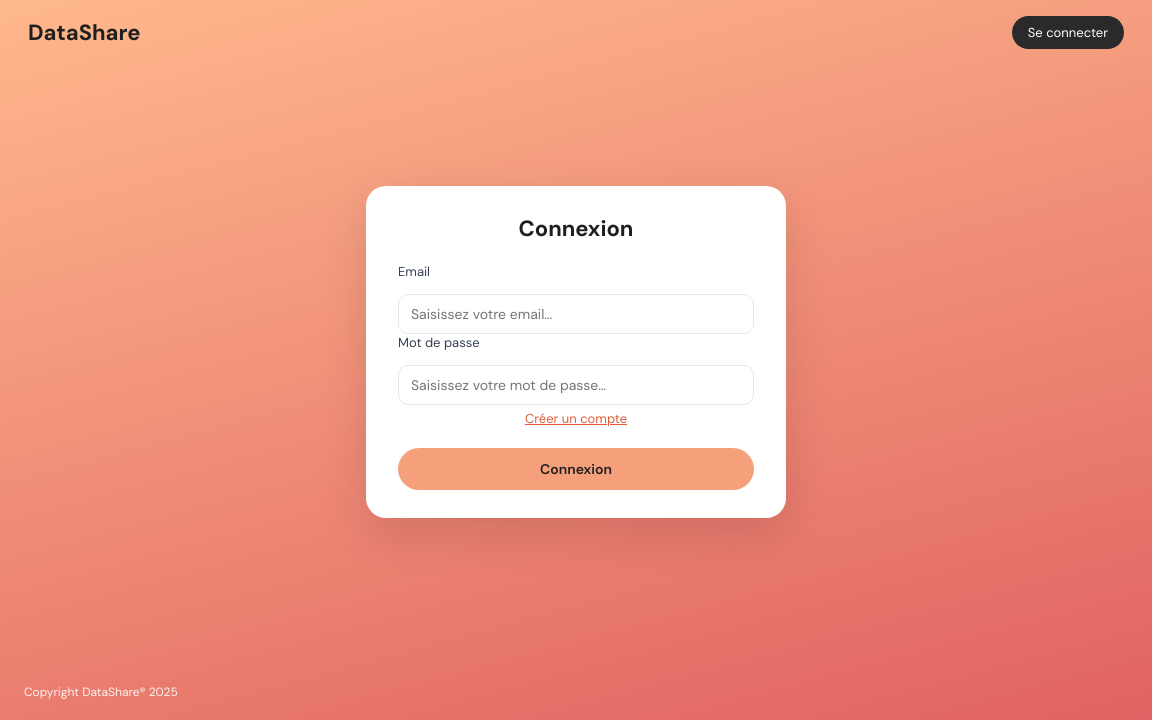
Test: US03 / US04 — Auth réelle › refuse des identifiants incorrects
Type "nobody_e2e@datashare.test" into the field named "email".
click(576, 314); type("nobody_e2e@datashare.test")  # box [398,294,754,334]
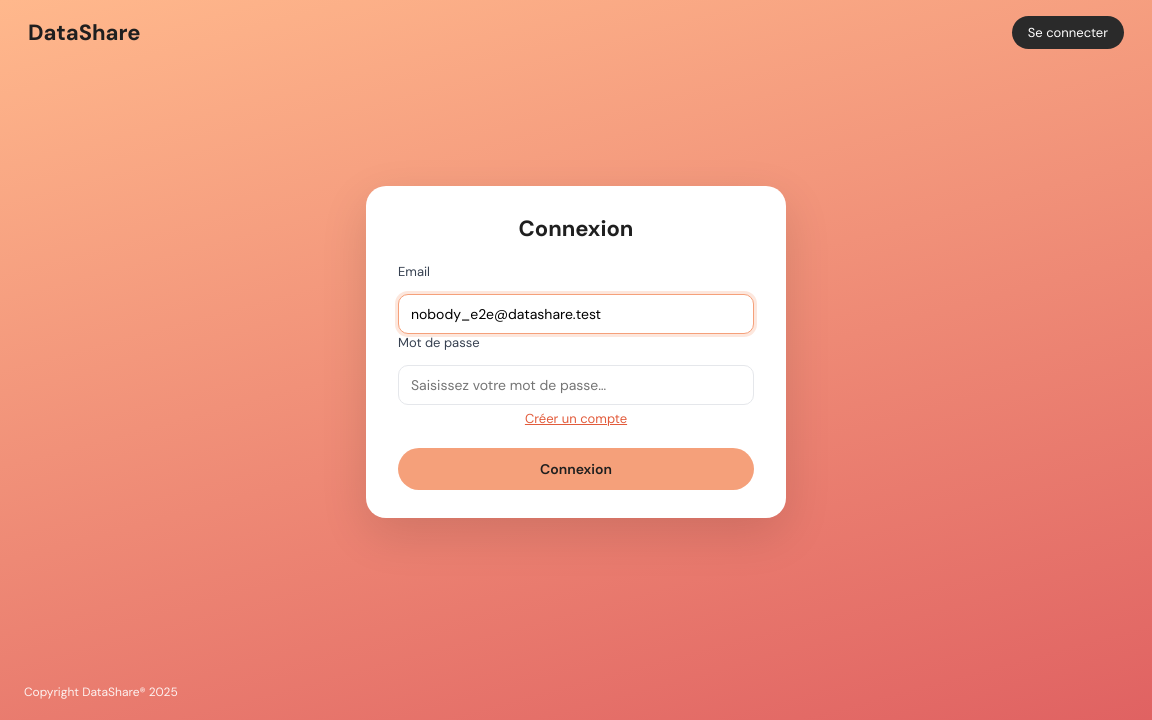
Type "wrongpass1" into the password field named "password".
click(576, 385); type("wrongpass1")  # box [398,365,754,405]
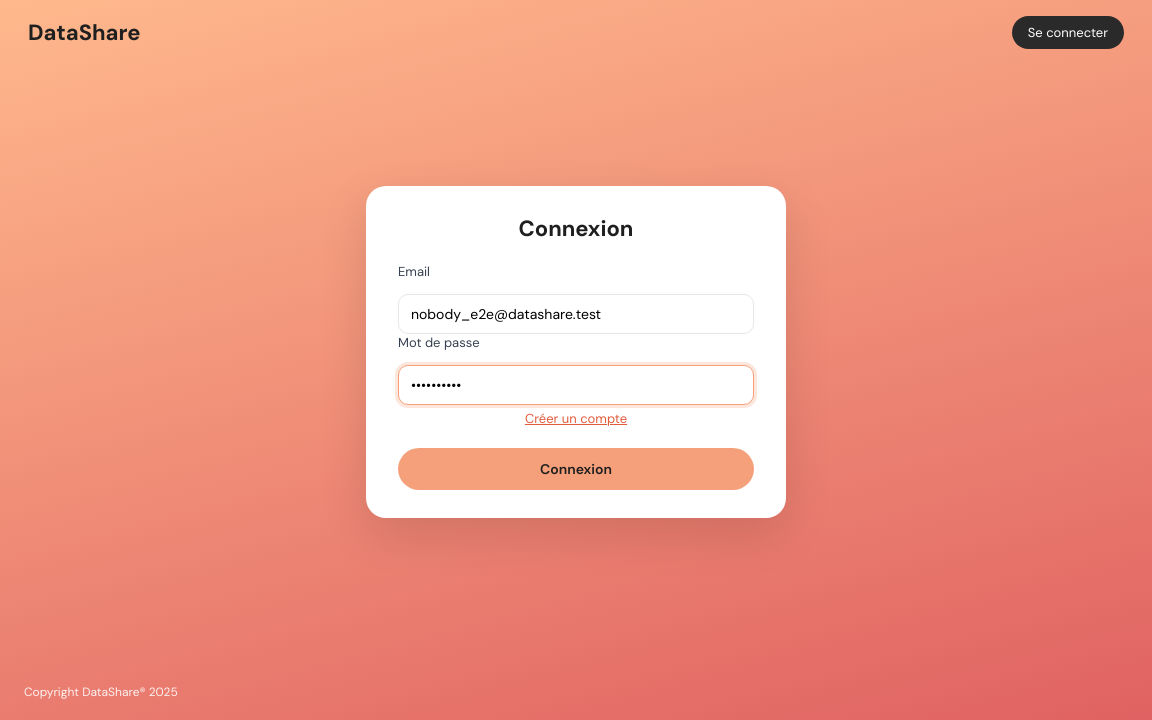
Click the button "Connexion".
click(576, 469)  # box [398,448,754,490]
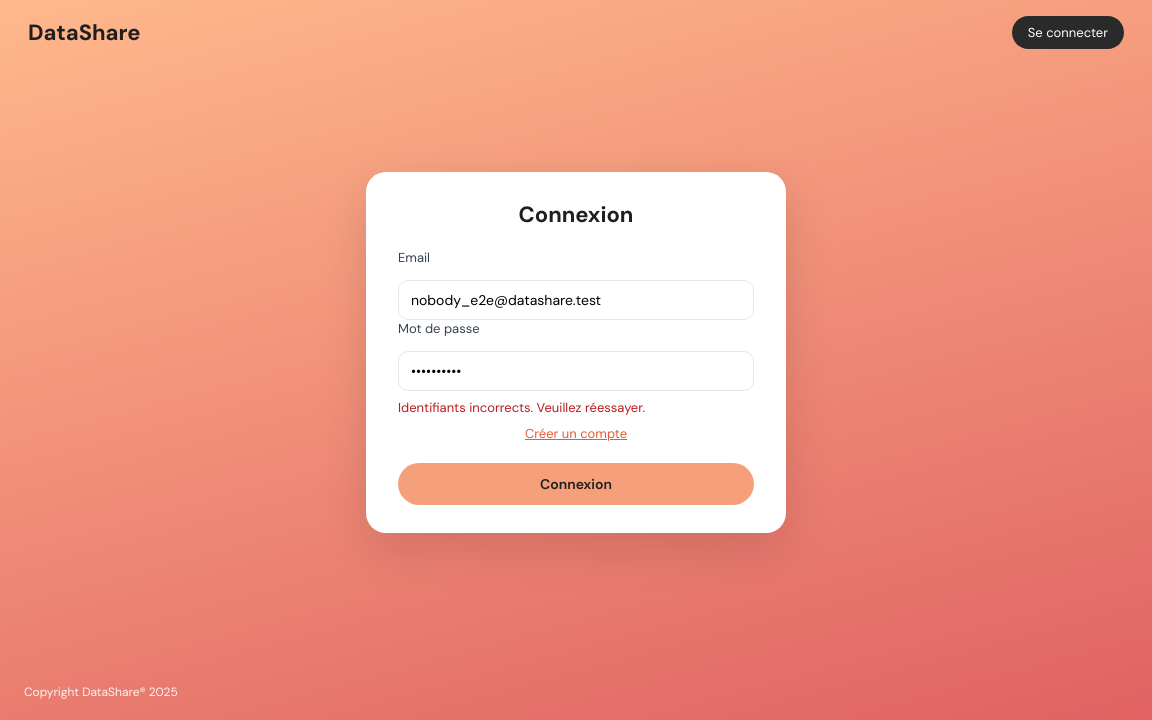
Now the text "Identifiants incorrects. Veuillez réessayer." is shown, box [398,398,645,416]
